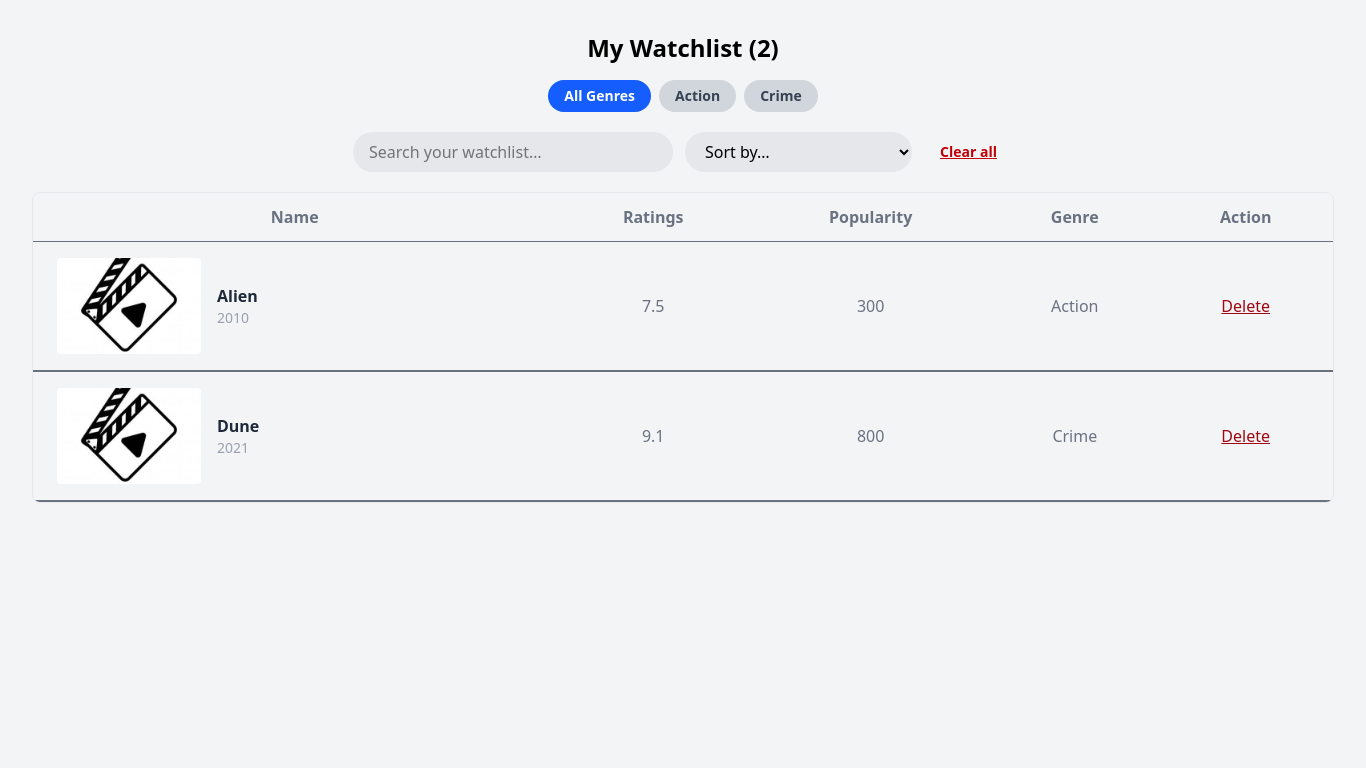
Scenario: WatchlistPage › clears the whole watchlist
Expected: the link "Alien" is shown, [217,285,258,307]
Click the button "Clear all" at (968, 152), box [924,134,1013,170]
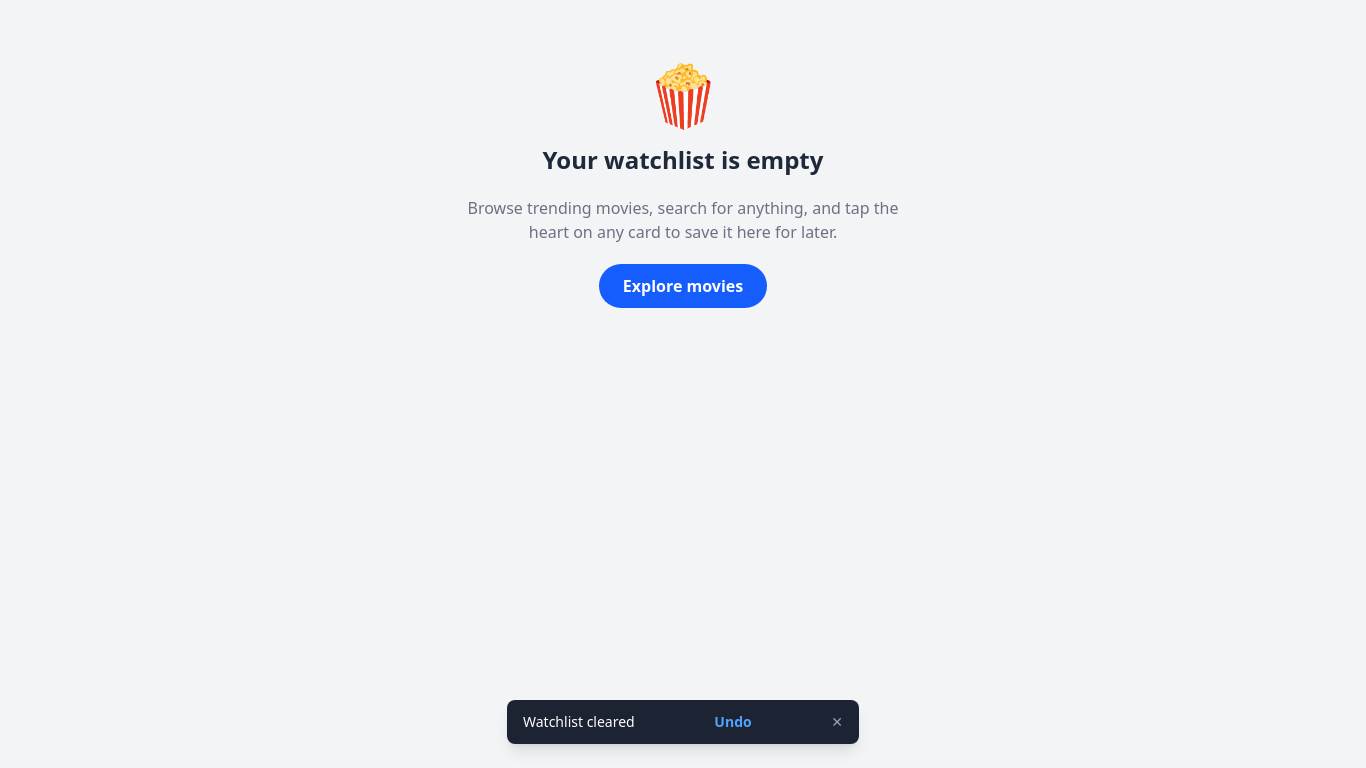
Result: the heading "Your watchlist is empty" is shown at [543,144,823,176]
